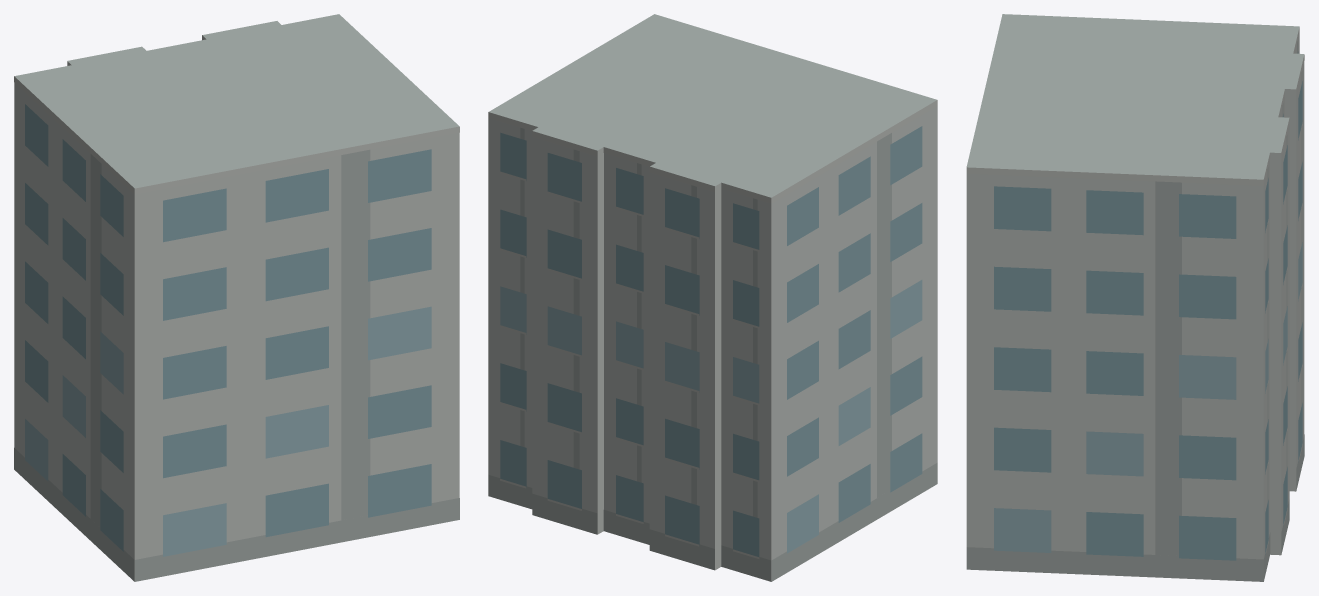
The model's file is survey-upis-32593643.glb.
The picture shows the model from 3 angles, left to right: view 1: azimuth 30°, elevation 25°; view 2: azimuth 150°, elevation 25°; view 3: azimuth 270°, elevation 25°; orthographic projection. The views are drawn at different scales.
Parts seen in each view (by area): view 1: survey-upis-32593643.tmp; view 2: survey-upis-32593643.tmp; view 3: survey-upis-32593643.tmp.
Part boxes in pixels (x1,y1,x2,y2): survey-upis-32593643.tmp: (14, 14, 459, 581); survey-upis-32593643.tmp: (488, 14, 937, 581); survey-upis-32593643.tmp: (966, 14, 1304, 581).
Bounding box in the file's own units: 13.97 × 15.8 × 12.05.
